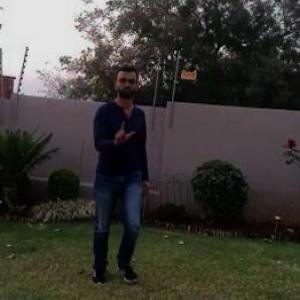land_hand: (109, 113, 137, 149)
